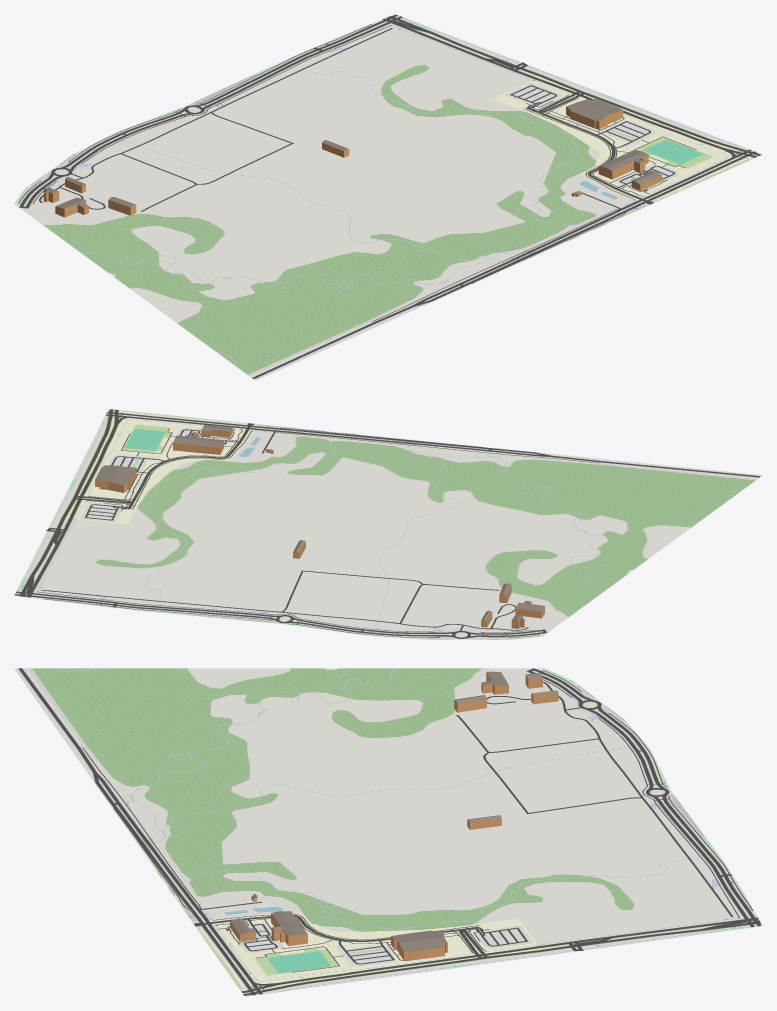
The model's file is TempARVRGISMap.fbx.
3 views of the same model, one above another, from view 1: azimuth 30°, elevation 25°; view 2: azimuth 150°, elevation 25°; view 3: azimuth 270°, elevation 25° (orthographic). The views are drawn at different scales.
Parts seen in each view (by area): view 1: Terrain, map_19.osm_roads_tertiary, map_19.osm_buildings, map_19.osm_paths_footway, map_19.osm_roads_service, map_19.osm_roads_secondary, map_19.osm_roads_unclassified; view 2: Terrain, map_19.osm_roads_tertiary, map_19.osm_buildings, map_19.osm_paths_footway, map_19.osm_roads_service, map_19.osm_roads_secondary, map_19.osm_roads_unclassified; view 3: Terrain, map_19.osm_roads_tertiary, map_19.osm_buildings, map_19.osm_roads_secondary, map_19.osm_roads_service, map_19.osm_paths_footway, map_19.osm_roads_unclassified.
Boxes of the visible parts, x1,y1,x2,y2 form: Terrain: (14,14,762,380); map_19.osm_roads_tertiary: (19,14,756,378); map_19.osm_buildings: (43,98,661,217); map_19.osm_paths_footway: (18,24,743,321); map_19.osm_roads_service: (39,28,675,211); map_19.osm_roads_secondary: (382,16,761,157); map_19.osm_roads_unclassified: (538,93,653,204); Terrain: (14,409,762,639); map_19.osm_roads_tertiary: (15,412,760,638); map_19.osm_buildings: (95,425,544,628); map_19.osm_paths_footway: (37,414,598,637); map_19.osm_roads_service: (42,429,528,631); map_19.osm_roads_secondary: (19,409,118,597); map_19.osm_roads_unclassified: (80,423,253,503); Terrain: (14,668,762,996); map_19.osm_roads_tertiary: (18,668,761,995); map_19.osm_buildings: (230,671,558,960); map_19.osm_roads_secondary: (241,917,760,995); map_19.osm_roads_service: (200,681,733,964); map_19.osm_paths_footway: (82,670,753,989); map_19.osm_roads_unclassified: (193,915,485,955).
Bounding box in the file's own units: 138954 × 2278 × 133857.
